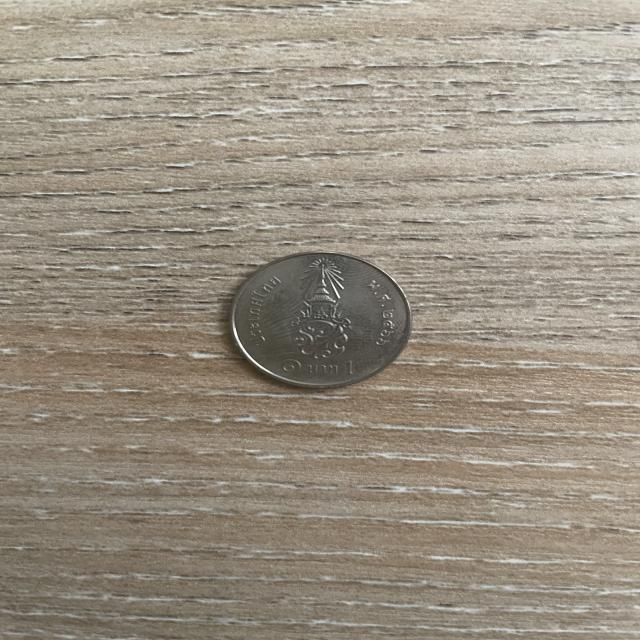1 Bath: (224, 244, 425, 399)
